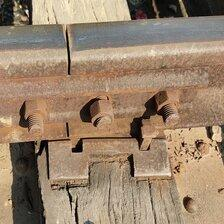railway-gap: (29, 7, 109, 88), (56, 118, 79, 140)
